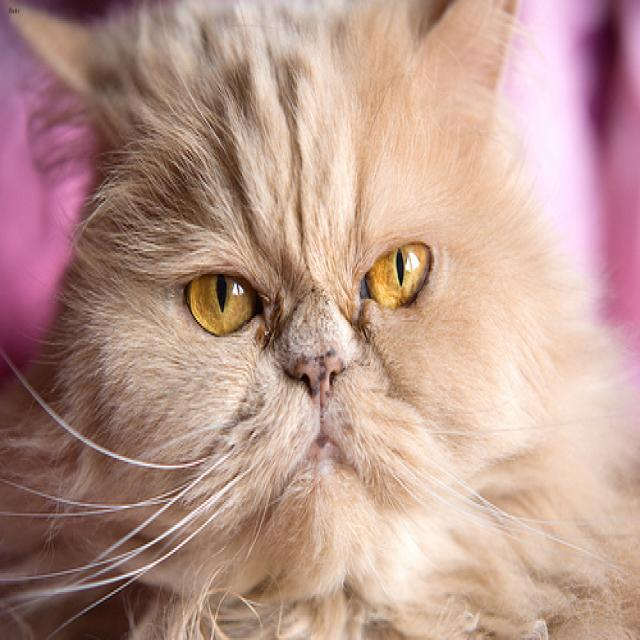Persian: (9, 0, 518, 575)
